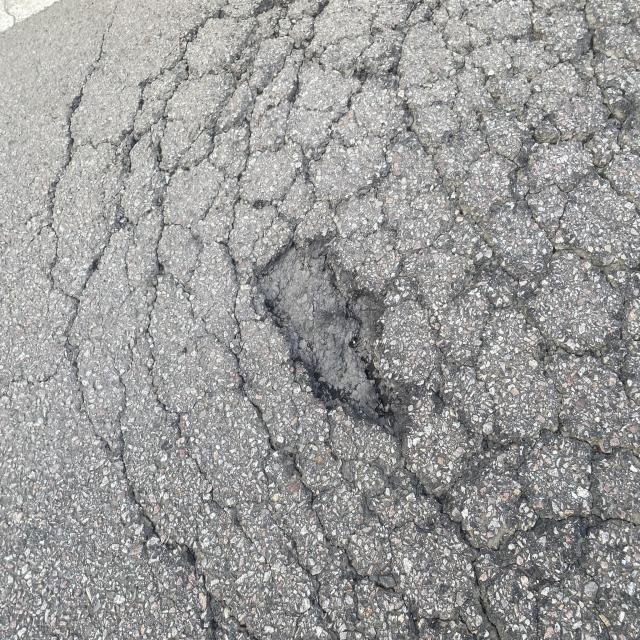pothole: (232, 181, 418, 504)
